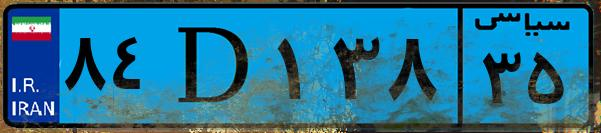1: (270, 28, 330, 110)
3: (330, 28, 385, 110), (475, 38, 525, 113)
4: (110, 28, 158, 98)
5: (525, 38, 570, 115)
8: (385, 28, 445, 110), (57, 26, 110, 100)
D: (158, 12, 270, 120)
